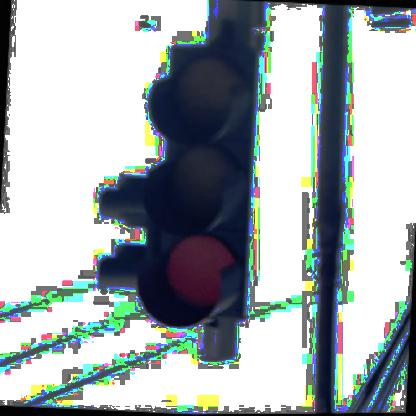Traffic Light -Red-: (133, 46, 259, 332)
